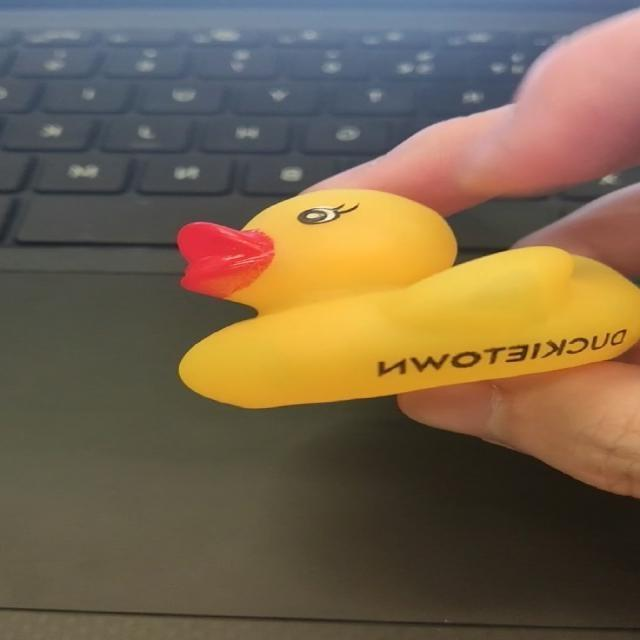rubber-duck: (177, 188, 638, 406)
